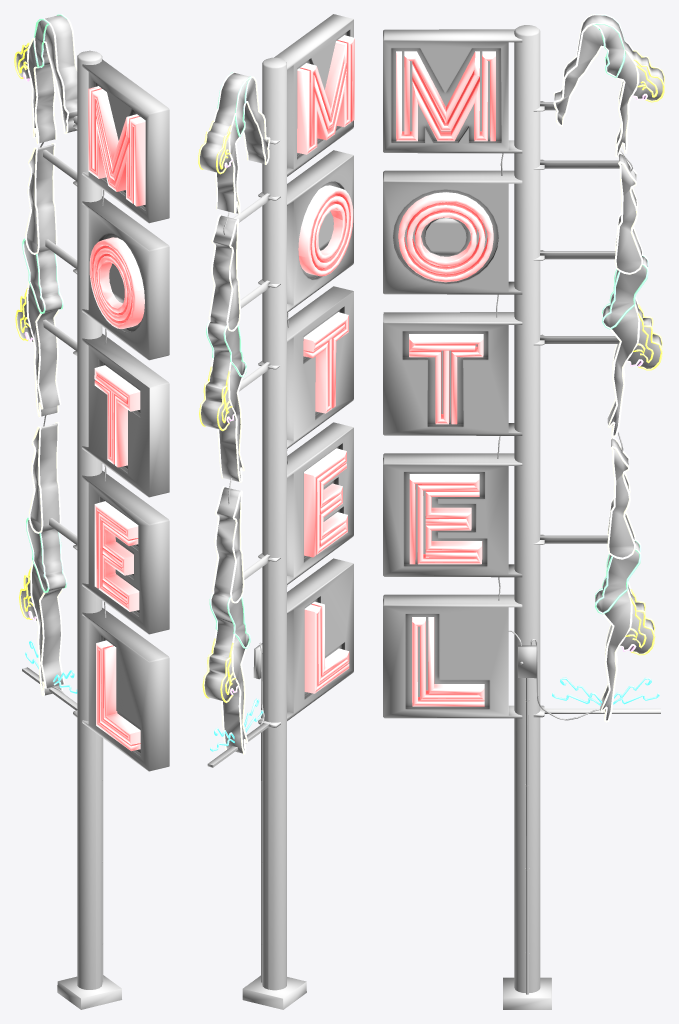
The model's file is neon_motel.glb.
3 views of the same model, side by side, from view 1: azimuth 30°, elevation 25°; view 2: azimuth 150°, elevation 25°; view 3: azimuth 270°, elevation 25° (orthographic). The views are drawn at different scales.
Visible parts, largest first — view 1: motel_1_01.001; view 2: motel_1_01.001; view 3: motel_1_01.001.
Part boxes in pixels (x1,y1,x2,y2): motel_1_01.001: (14,14,169,1009); motel_1_01.001: (198,14,354,1009); motel_1_01.001: (383,14,664,1009).
Size of the model in its own units: 0.163 by 3.6 by 0.9371.
1 material, 1 textured.
